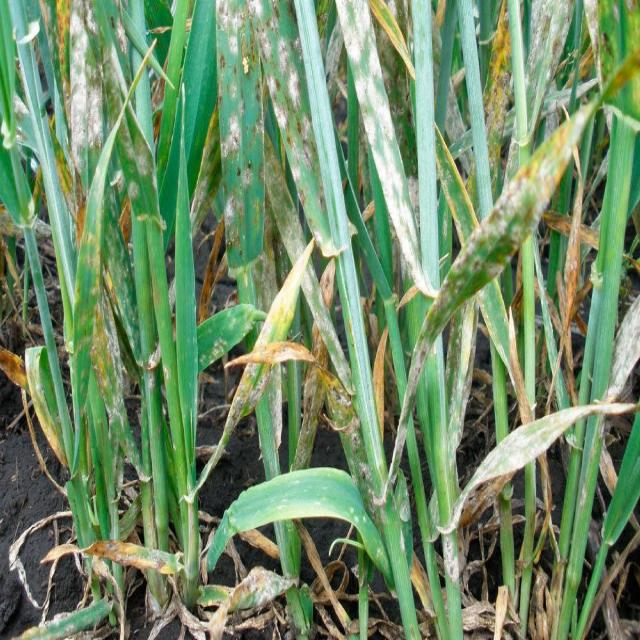wheat-powdery-mildew: (389, 169, 562, 483), (335, 0, 426, 296), (246, 3, 333, 255), (215, 0, 266, 273), (522, 3, 575, 147), (105, 290, 140, 465)
